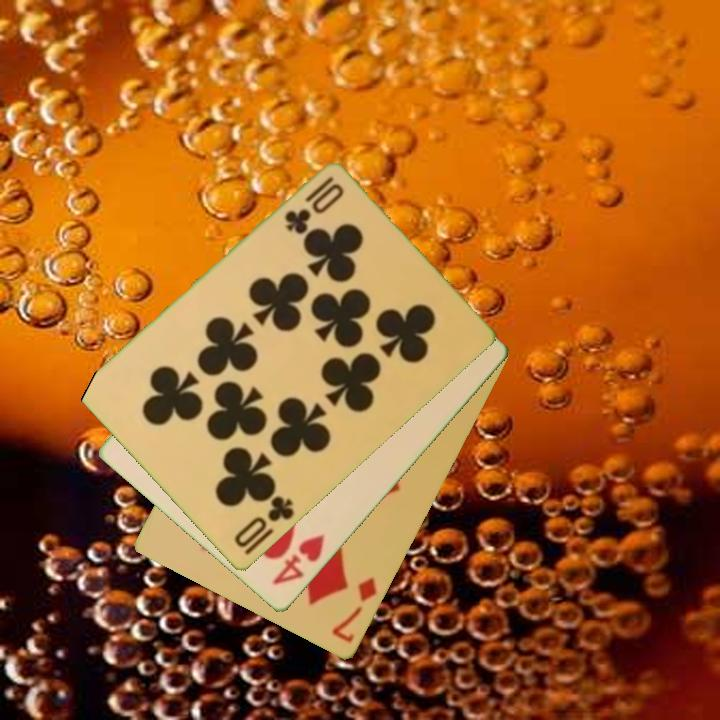10c: (230, 493, 298, 559), (280, 173, 347, 238)
4h: (268, 531, 328, 589)
7d: (328, 574, 380, 646)
